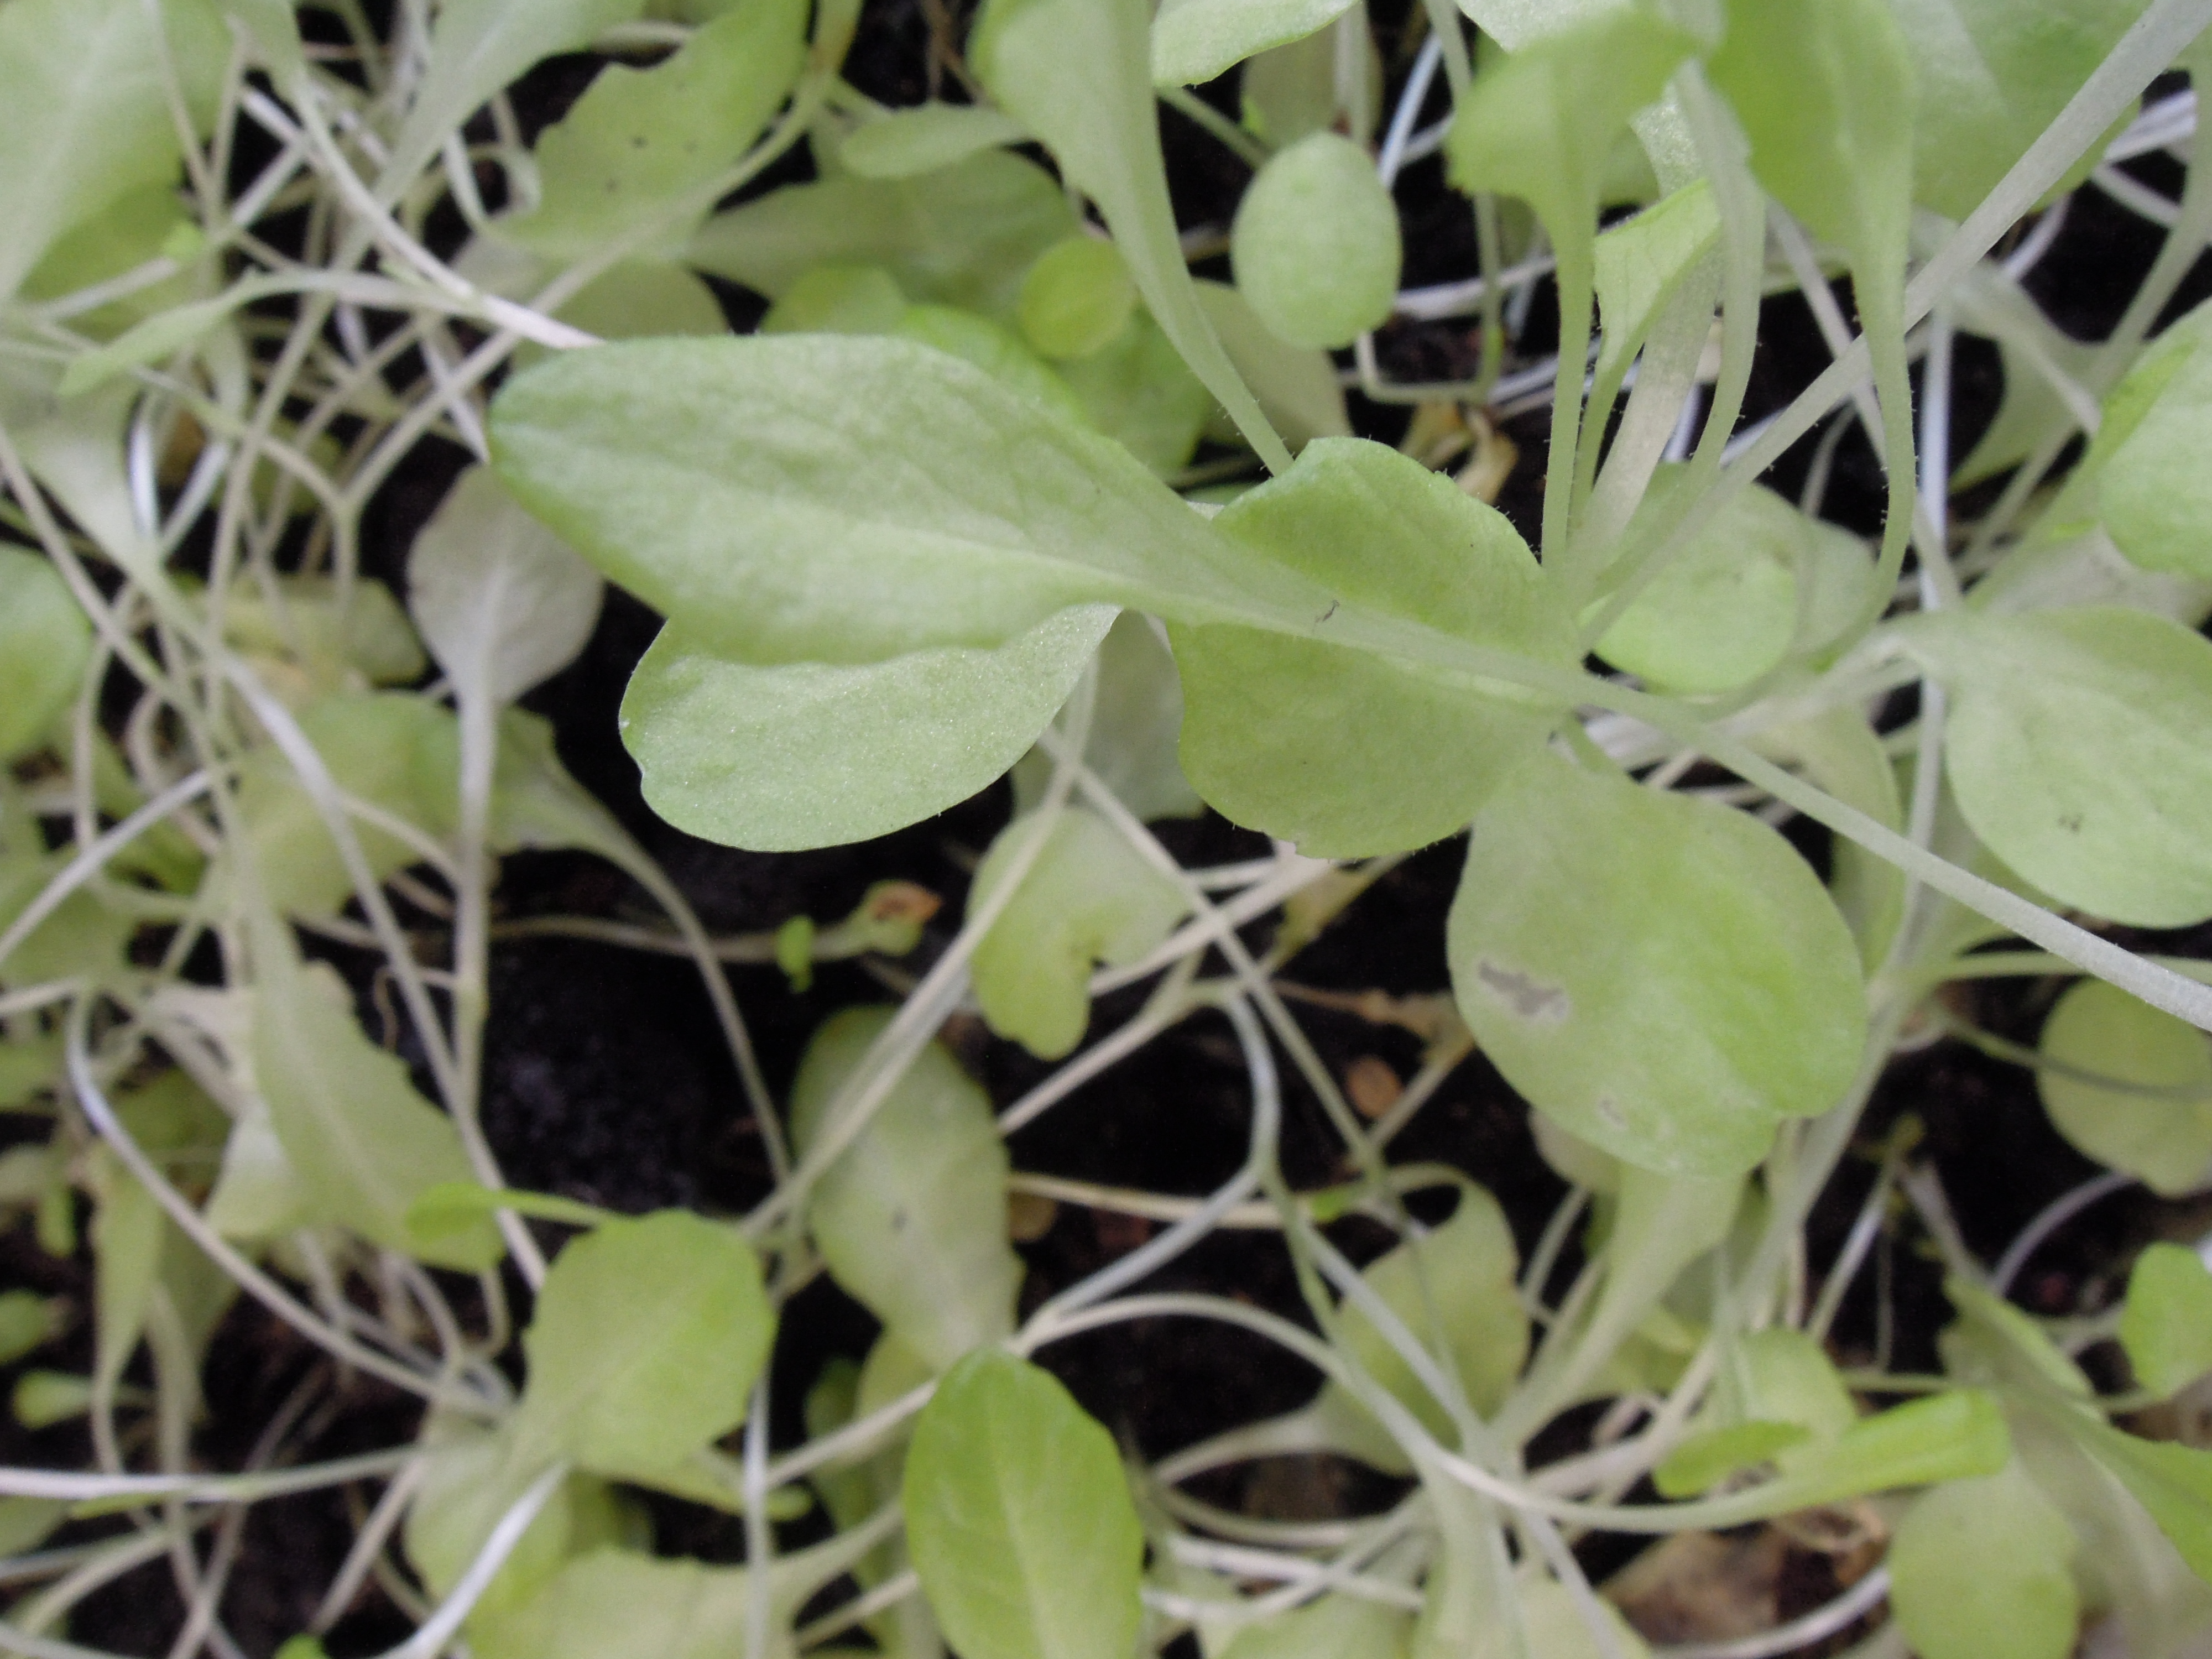weeek6: (597, 0, 2212, 1284)
